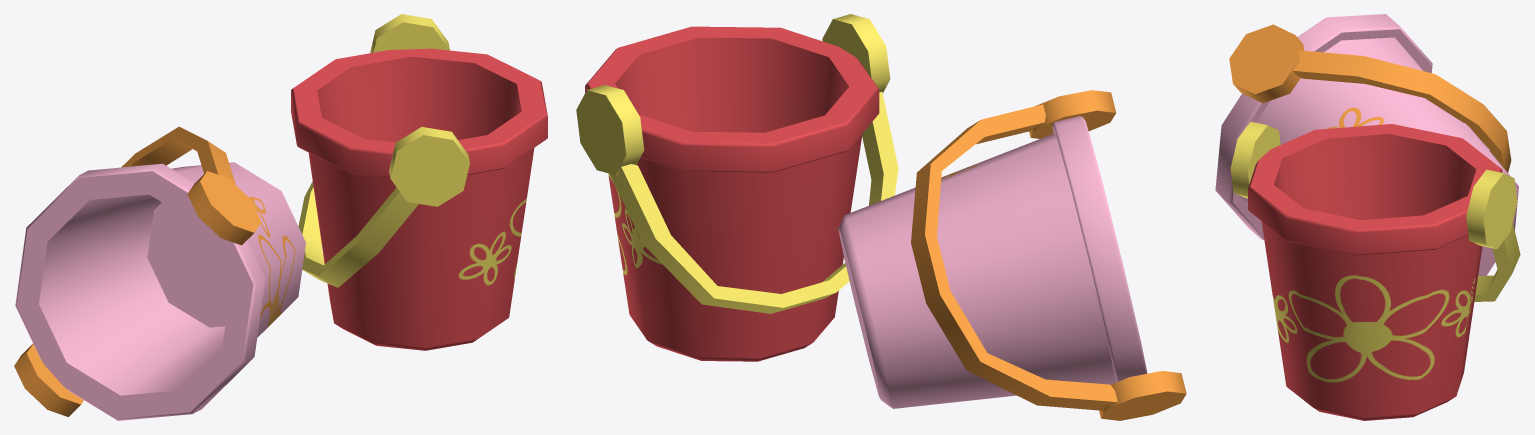
The model's file is Buckets.fbx.
3 renders of one model, left to right at view 1: azimuth 30°, elevation 25°; view 2: azimuth 150°, elevation 25°; view 3: azimuth 270°, elevation 25°, orthographic. The views are drawn at different scales.
Parts seen in each view (by area): view 1: pCylinder10, pCylinder11; view 2: pCylinder10, pCylinder11; view 3: pCylinder10, pCylinder11.
Boxes of the visible parts, x1,y1,x2,y2 form: pCylinder10: (291,14,547,350); pCylinder11: (14,126,305,420); pCylinder10: (576,14,898,361); pCylinder11: (838,90,1186,420); pCylinder10: (1230,121,1520,420); pCylinder11: (1215,14,1518,275).
Bounding box in the file's own units: 2.5 × 1.15 × 1.31.
